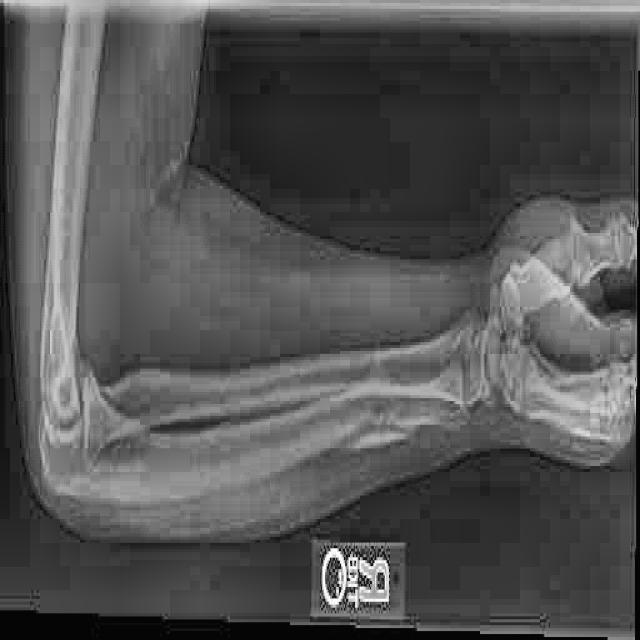forearm fracture: (325, 365, 431, 488)
